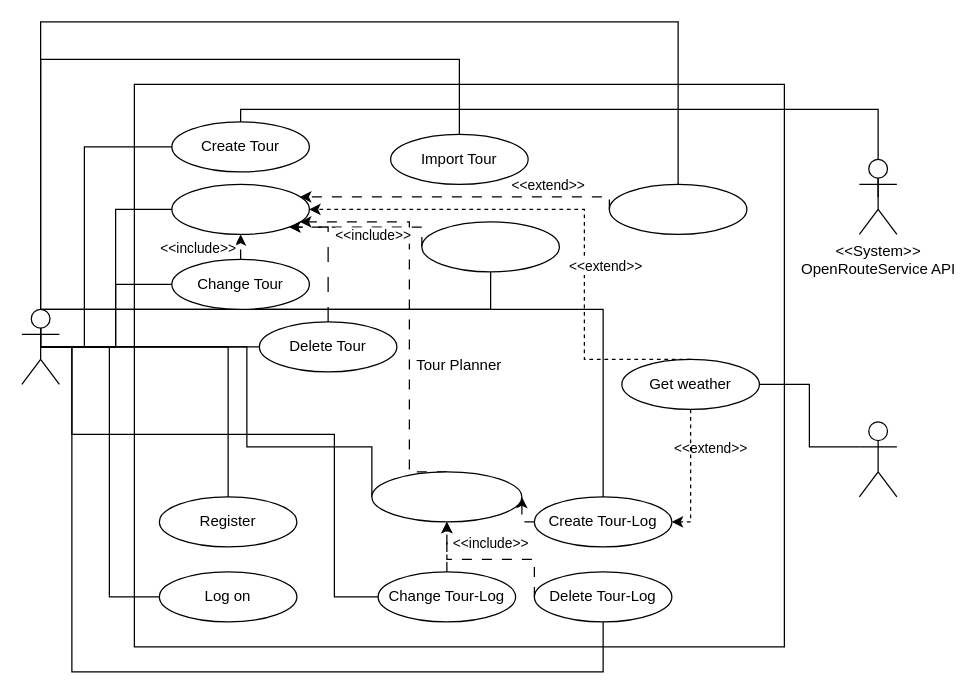
Some shapes in this 976 by 695 pixel diagram are drawn without their labels. Each missing label, with the centre of its shape:
"<<System>> Weather API" goes at pixel 877 459.
"Export Tour" goes at pixel 490 246.
"Full Text Search" goes at pixel 677 208.
"List/View Tour-Logs" goes at pixel 446 496.
"List/View Tours" goes at pixel 240 208.
"User" goes at pixel 40 346.
